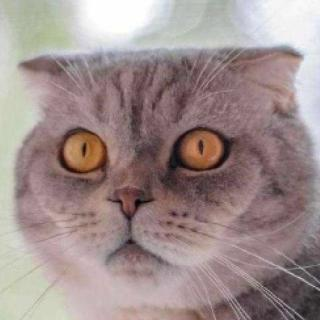cat: (17, 44, 302, 309)
nose: (104, 175, 160, 230)
